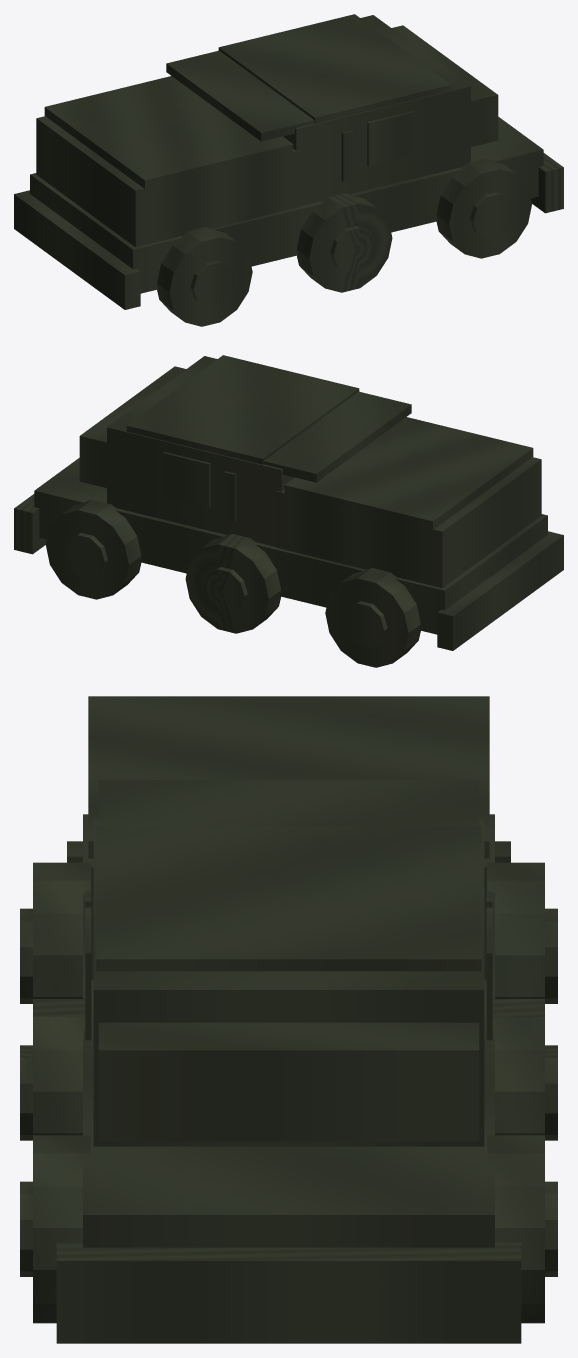
File: veh_jeep_tactical_a.glb
The picture shows the model from 3 angles, top to bottom: view 1: azimuth 30°, elevation 25°; view 2: azimuth 150°, elevation 25°; view 3: azimuth 270°, elevation 25°; orthographic projection. The views are drawn at different scales.
Parts seen in each view (by area): view 1: veh_jeep_tactical_a; view 2: veh_jeep_tactical_a; view 3: veh_jeep_tactical_a.
Boxes of the visible parts, x1,y1,x2,y2 form: veh_jeep_tactical_a: (14,14,563,326); veh_jeep_tactical_a: (14,355,563,667); veh_jeep_tactical_a: (20,696,557,1343).
Size of the model in its own units: 4.2 by 1.52 by 2.24.
Materials: 1 (1 with a texture image).
